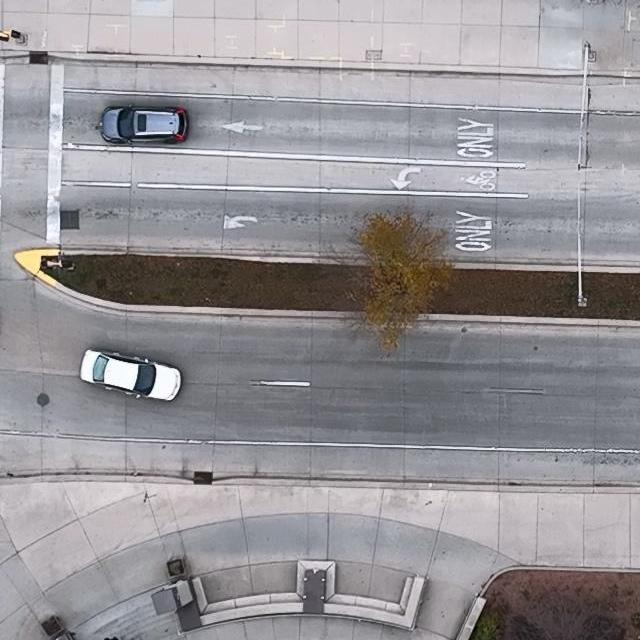car: (80, 347, 182, 401), (99, 103, 189, 145)
